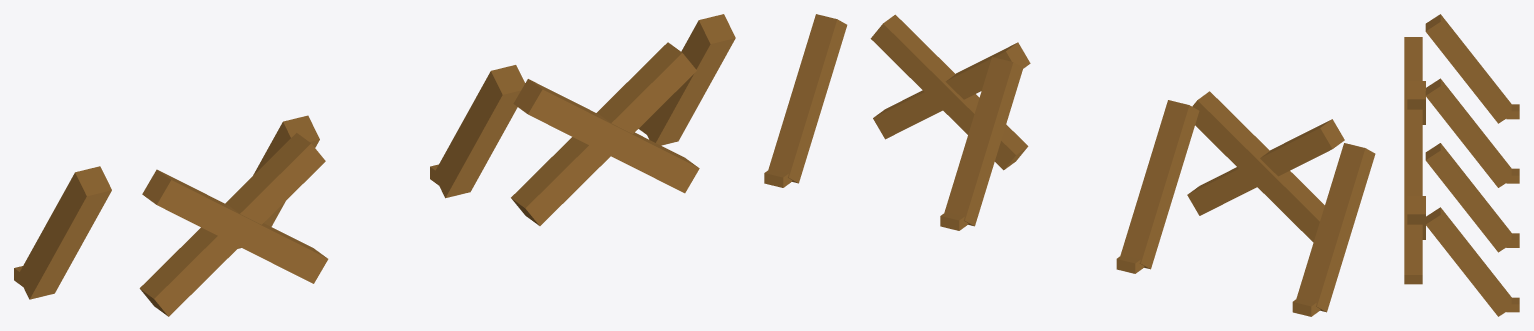
The model's file is SM_ObraPuertaApuntalada_v2_10m_LOD1.fbx.
3 views of the same model, side by side, from view 1: azimuth 30°, elevation 25°; view 2: azimuth 150°, elevation 25°; view 3: azimuth 270°, elevation 25° (orthographic). The views are drawn at different scales.
Parts seen in each view (by area): view 1: SM_obra_curso_v35_LOD1; view 2: SM_obra_curso_v35_LOD1; view 3: SM_obra_curso_v35_LOD1.
Boxes of the visible parts, bbox=[...] form: SM_obra_curso_v35_LOD1: bbox=[14, 14, 735, 316]; SM_obra_curso_v35_LOD1: bbox=[764, 14, 1375, 316]; SM_obra_curso_v35_LOD1: bbox=[1404, 14, 1519, 316].
Size of the model in its own units: 8.74 by 2.07 by 2.12.
